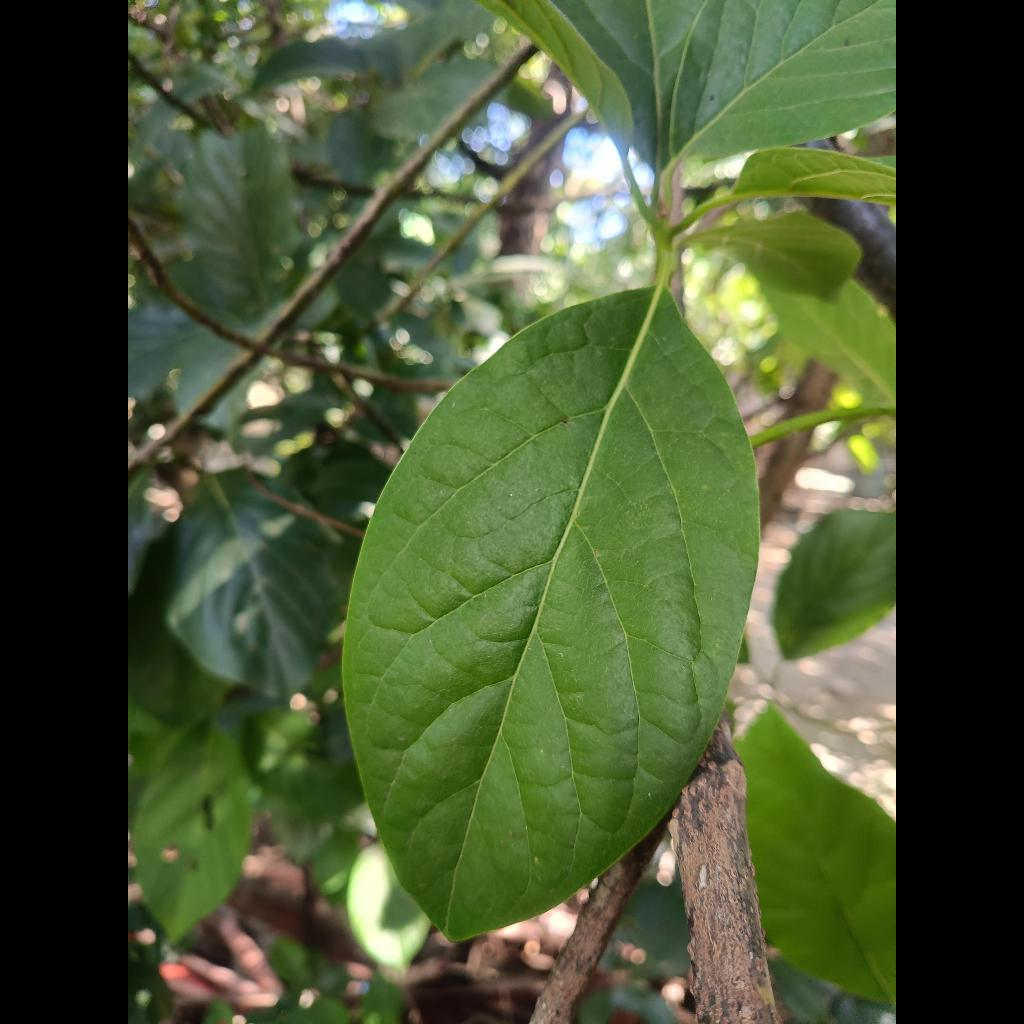Healthy: (344, 288, 758, 940)
